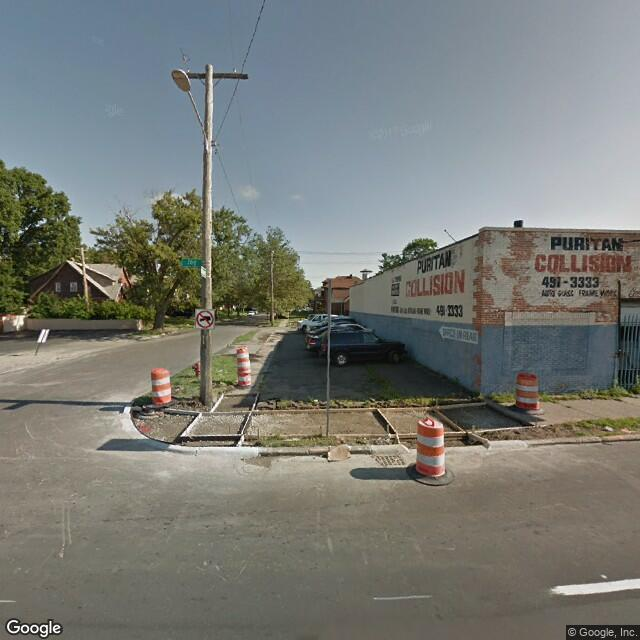litter: (601, 419, 629, 436), (307, 393, 324, 408)
